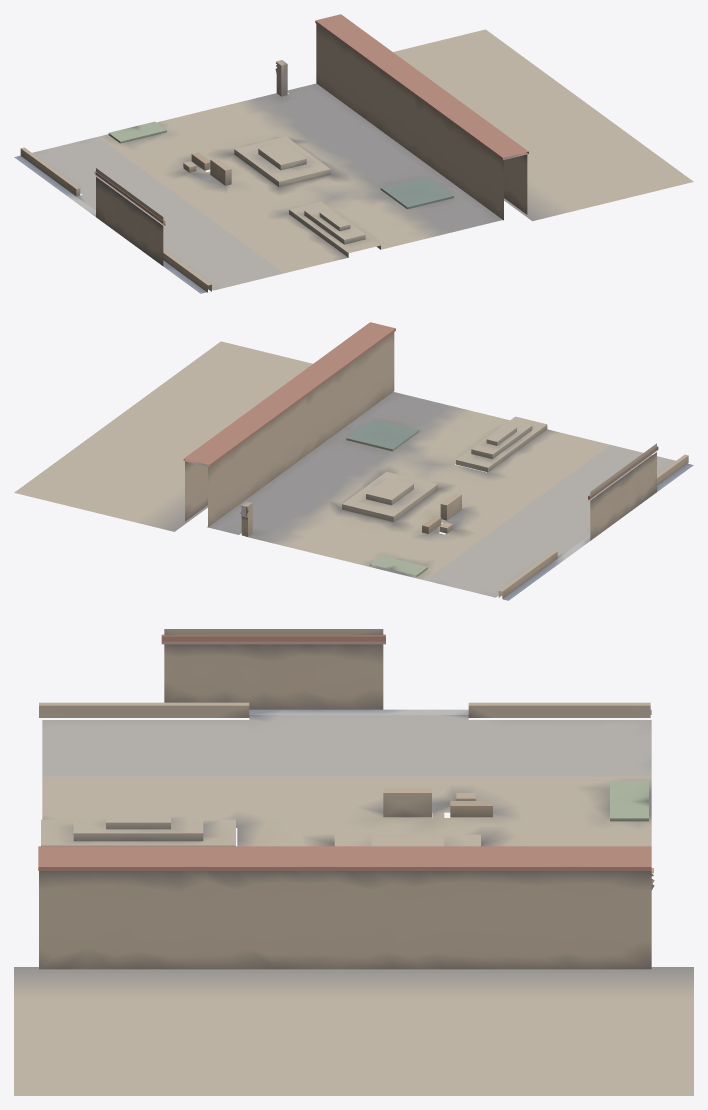
3 views of the same model, one above another, from view 1: azimuth 30°, elevation 25°; view 2: azimuth 150°, elevation 25°; view 3: azimuth 270°, elevation 25° (orthographic). The views are drawn at different scales.
Visible parts, largest first — view 1: t; view 2: t; view 3: t.
Part boxes in pixels (left/top/right/bottom): t: left=14, top=14, right=693, bottom=293; t: left=14, top=322, right=693, bottom=600; t: left=14, top=629, right=693, bottom=1095.
Size of the model in its own units: 75.1 by 9.35 by 55.81.
